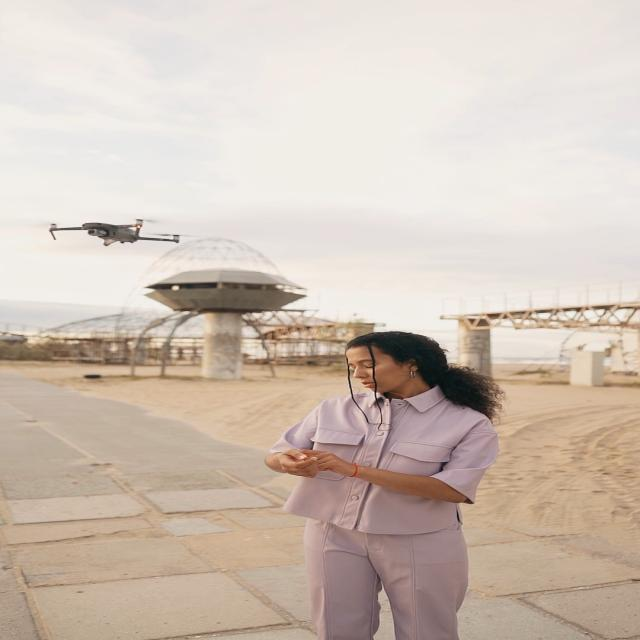Drone: (43, 212, 190, 254)
